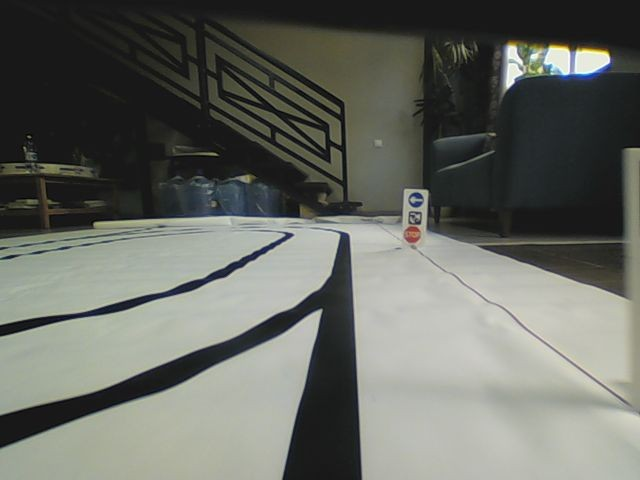Stop: (403, 227, 423, 241)
